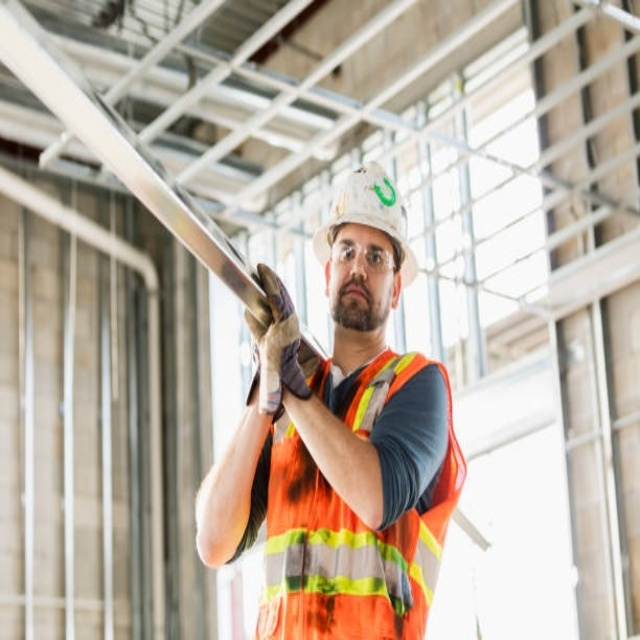Gafas: (330, 239, 398, 272)
Guantes: (243, 265, 316, 417)
Sin_mascara: (338, 284, 374, 318)
